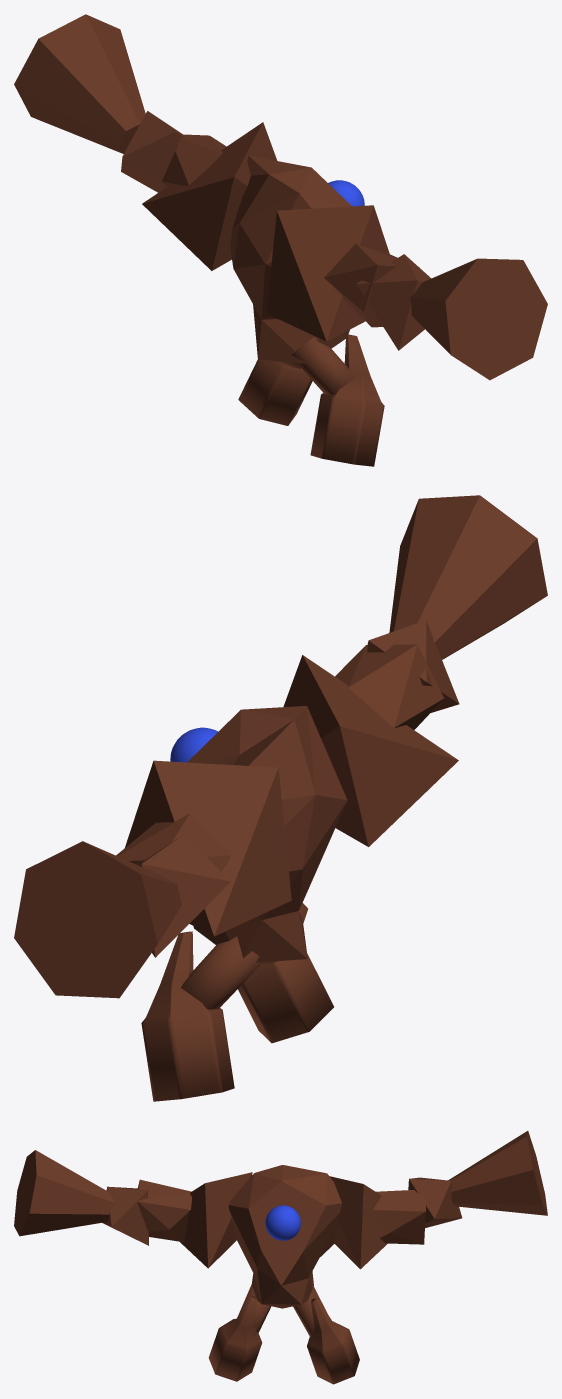
File: TitanRoche.fbx
The picture shows the model from 3 angles, top to bottom: view 1: azimuth 30°, elevation 25°; view 2: azimuth 150°, elevation 25°; view 3: azimuth 270°, elevation 25°; orthographic projection. The views are drawn at different scales.
Parts seen in each view (by area): view 1: Icosphere.002; view 2: Icosphere.002; view 3: Icosphere.002.
Part boxes in pixels (<box>): Icosphere.002: <box>14,14,547,466</box>; Icosphere.002: <box>14,495,547,1101</box>; Icosphere.002: <box>14,1131,547,1384</box>.
Bounding box in the file's own units: 140 × 247 × 534.
